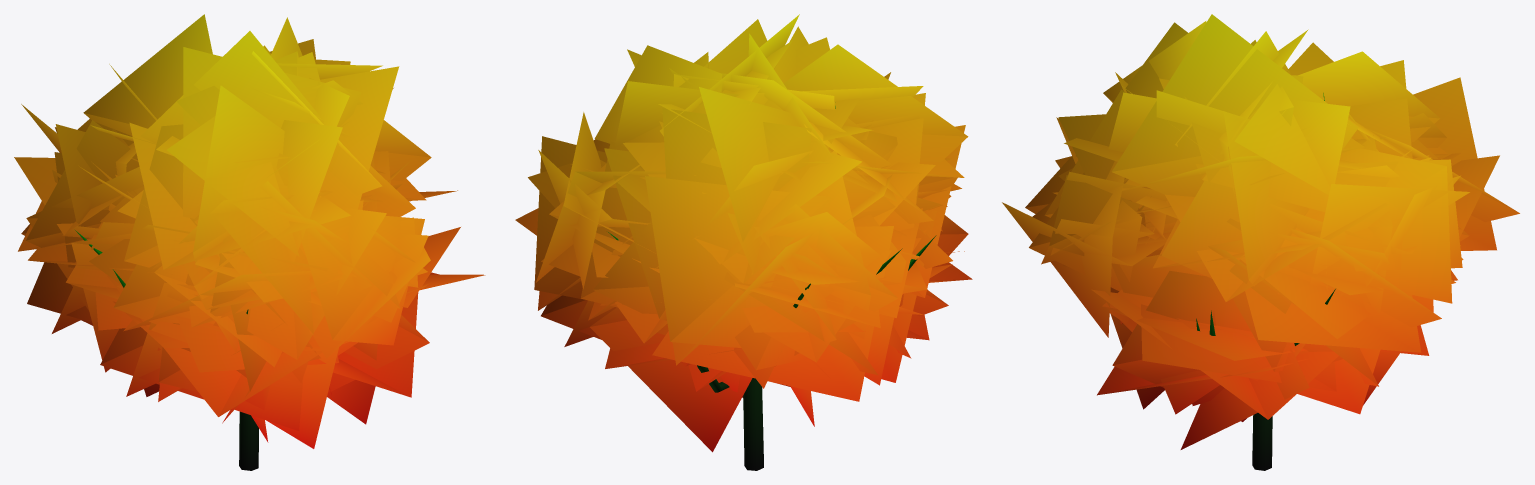
File: small_bush.obj
The picture shows the model from 3 angles, left to right: view 1: azimuth 30°, elevation 25°; view 2: azimuth 150°, elevation 25°; view 3: azimuth 270°, elevation 25°; orthographic projection.
Visible parts, largest first — view 1: Bush; view 2: Bush; view 3: Bush.
Part boxes in pixels (bbox=[...]): Bush: bbox=[14, 14, 485, 470]; Bush: bbox=[515, 14, 972, 470]; Bush: bbox=[1002, 14, 1519, 470].
Bounding box in the file's own units: 4.43 × 4.76 × 5.06.
